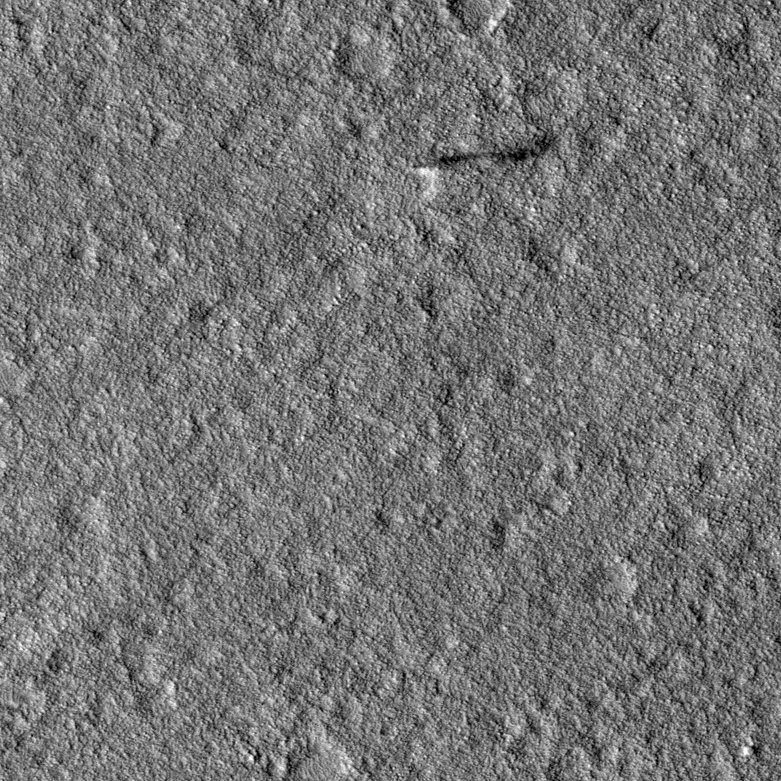dust_devil: (410, 132, 557, 187)
